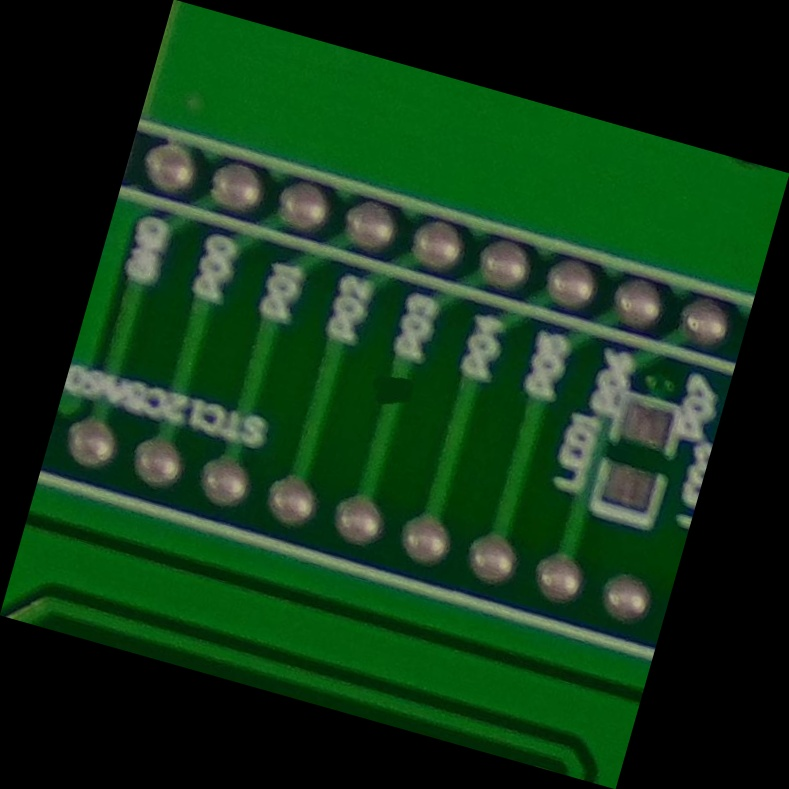open_circuit: (367, 365, 422, 424)
